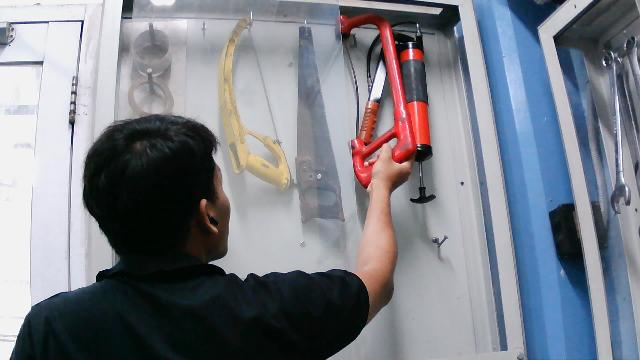gergaji_besi: (333, 11, 419, 192)
